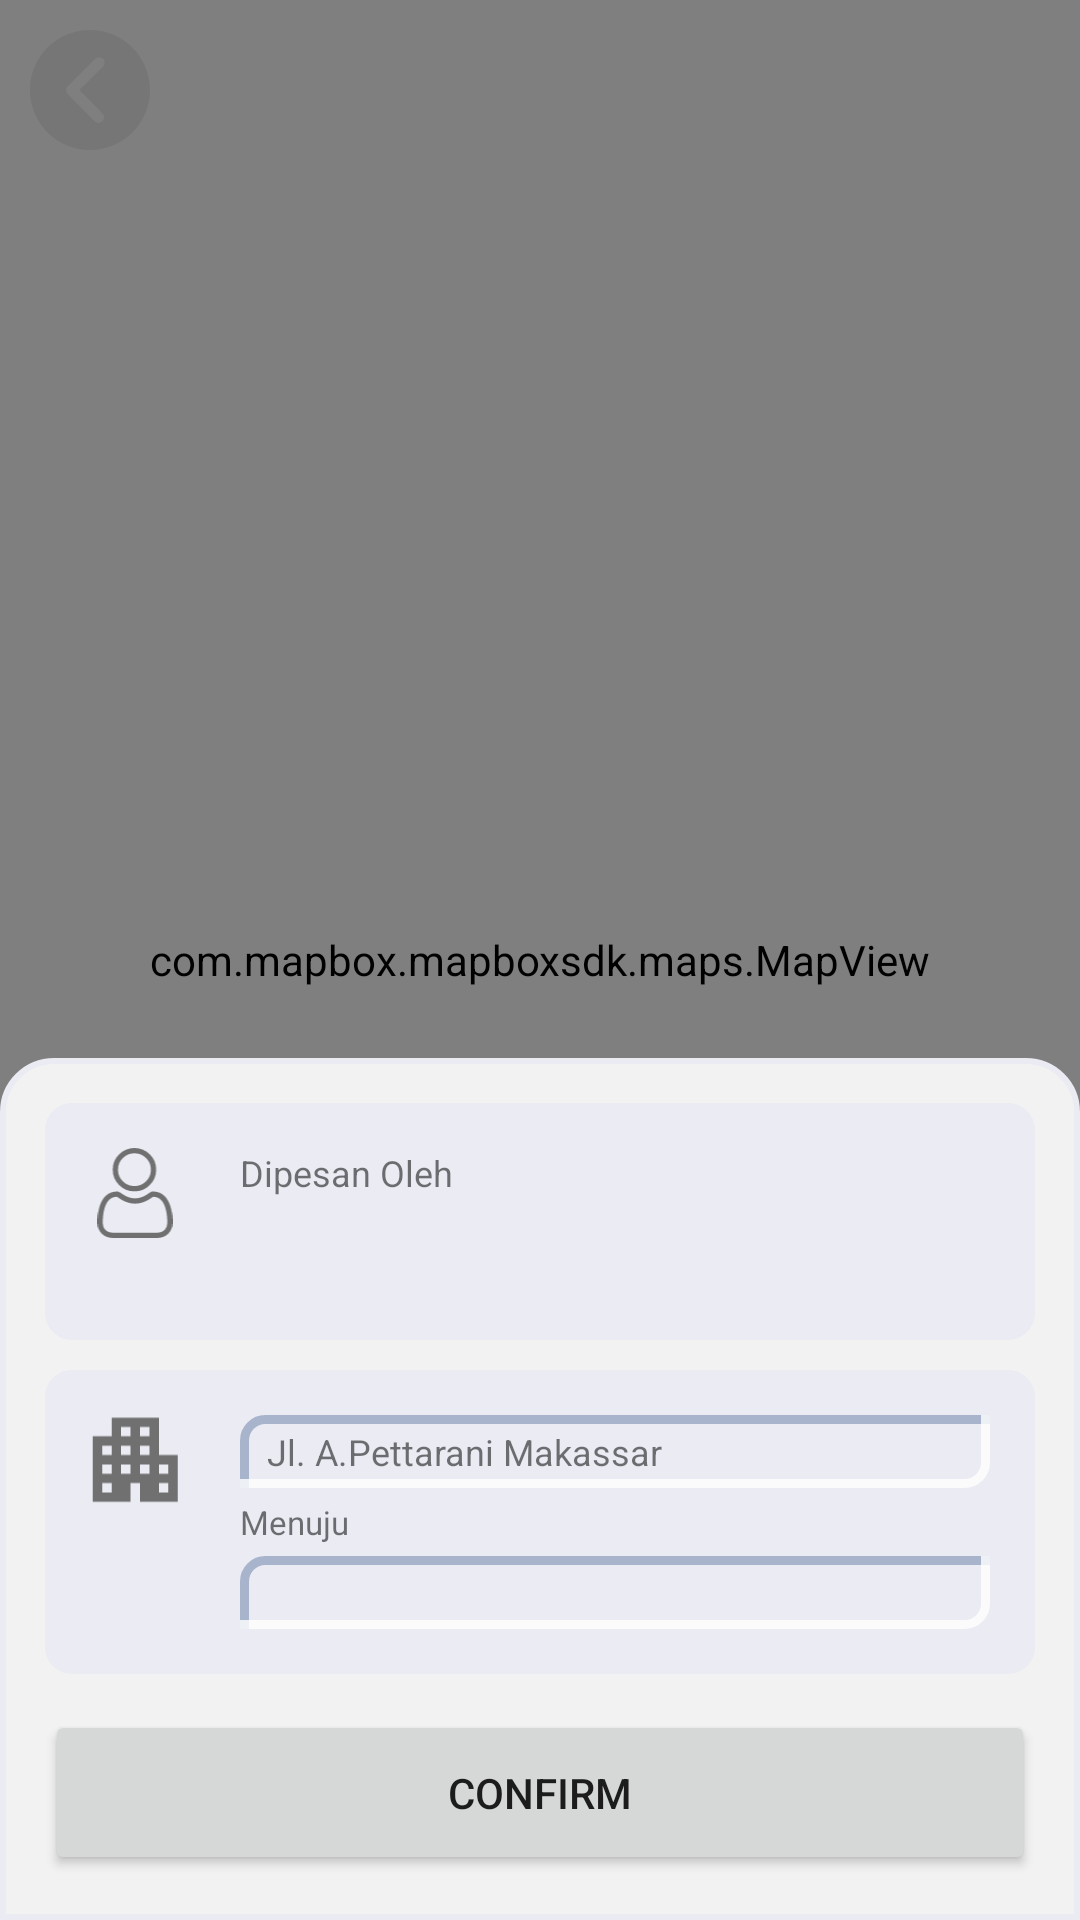

Screen size 1080 x 1920. Icon name, then its box in pixels as bbox=(x1, y1, x2, y2):
apartment: bbox=(92, 1417, 178, 1502)
user: bbox=(97, 1148, 173, 1238)
